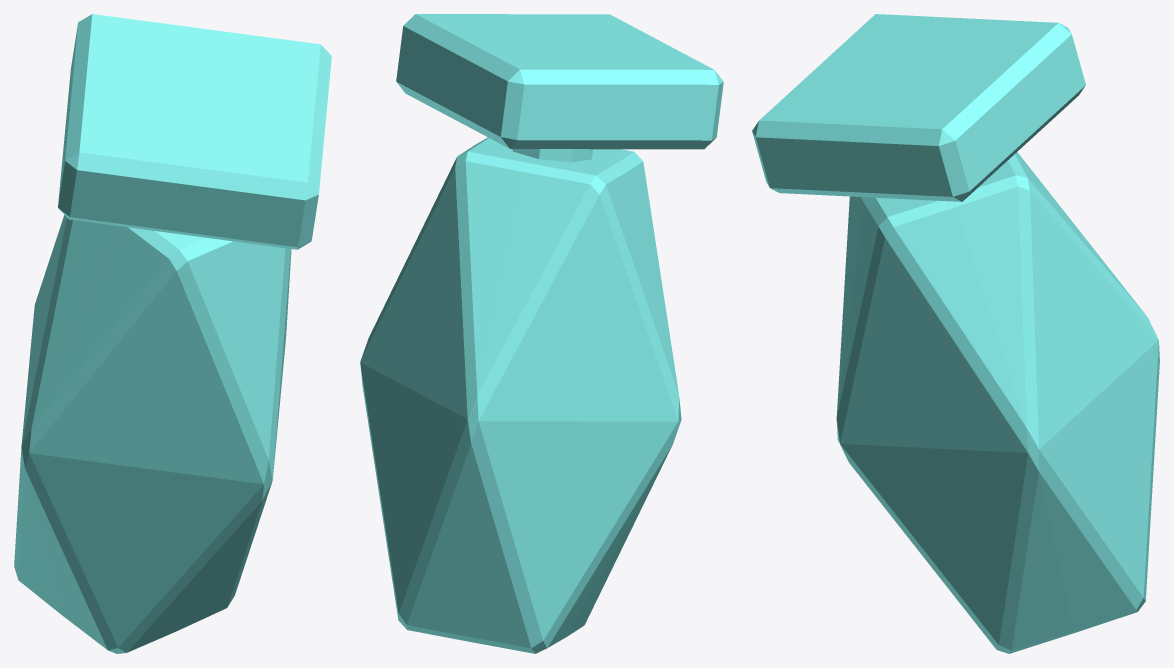
File: Bottle.glb
3 views of the same model, side by side, from view 1: azimuth 30°, elevation 25°; view 2: azimuth 150°, elevation 25°; view 3: azimuth 270°, elevation 25° (orthographic). The views are drawn at different scales.
Parts seen in each view (by area): view 1: mesh_id10, node_id5; view 2: mesh_id10, node_id5; view 3: mesh_id10, node_id5.
Part boxes in pixels (x1=…): mesh_id10: x1=14, y1=215, x2=291, y2=653; node_id5: x1=58, y1=14, x2=331, y2=249; mesh_id10: x1=360, y1=137, x2=681, y2=653; node_id5: x1=396, y1=14, x2=723, y2=149; mesh_id10: x1=836, y1=152, x2=1159, y2=653; node_id5: x1=752, y1=14, x2=1085, y2=201.
Bounding box in the file's own units: 0.2776 × 0.5446 × 0.3418.
Materials: 3 (3 with a texture image).
